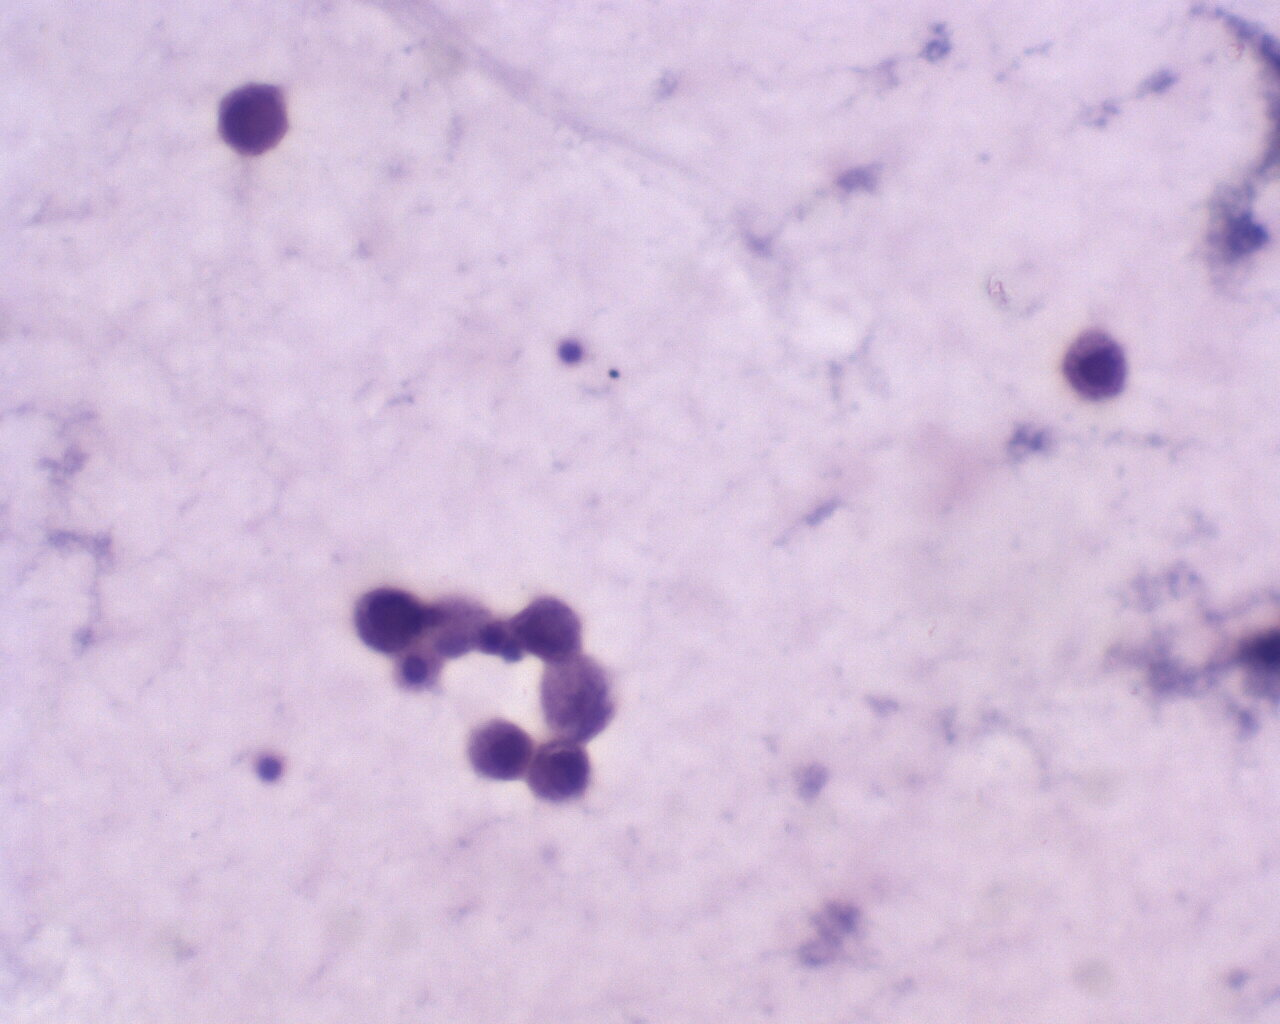ab: (346, 574, 430, 664), (218, 73, 299, 165), (506, 588, 590, 667), (465, 717, 537, 790), (521, 742, 594, 807)
meso: (1054, 323, 1135, 406)
